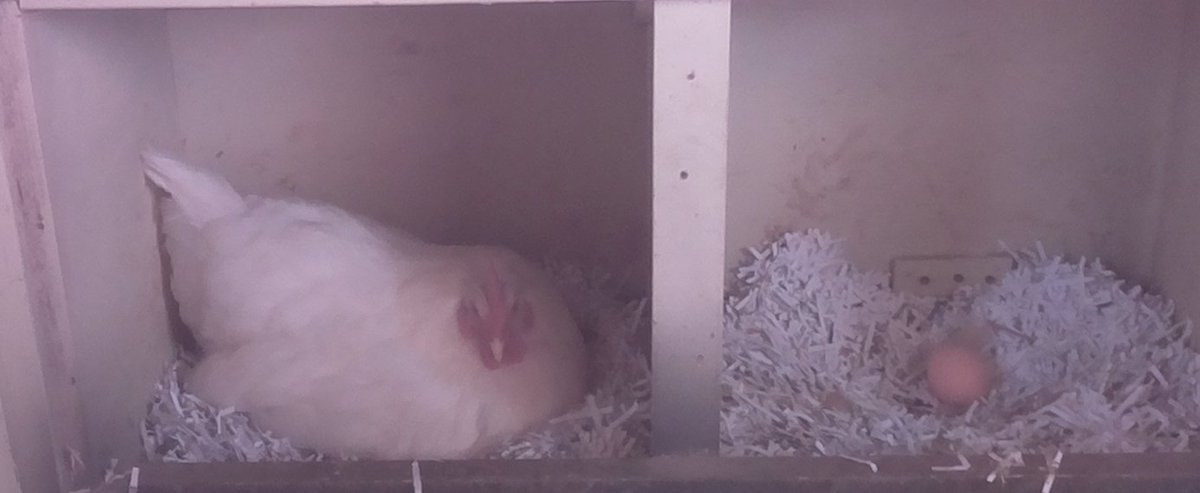egg: (922, 331, 1001, 412)
hen: (131, 138, 601, 456)
